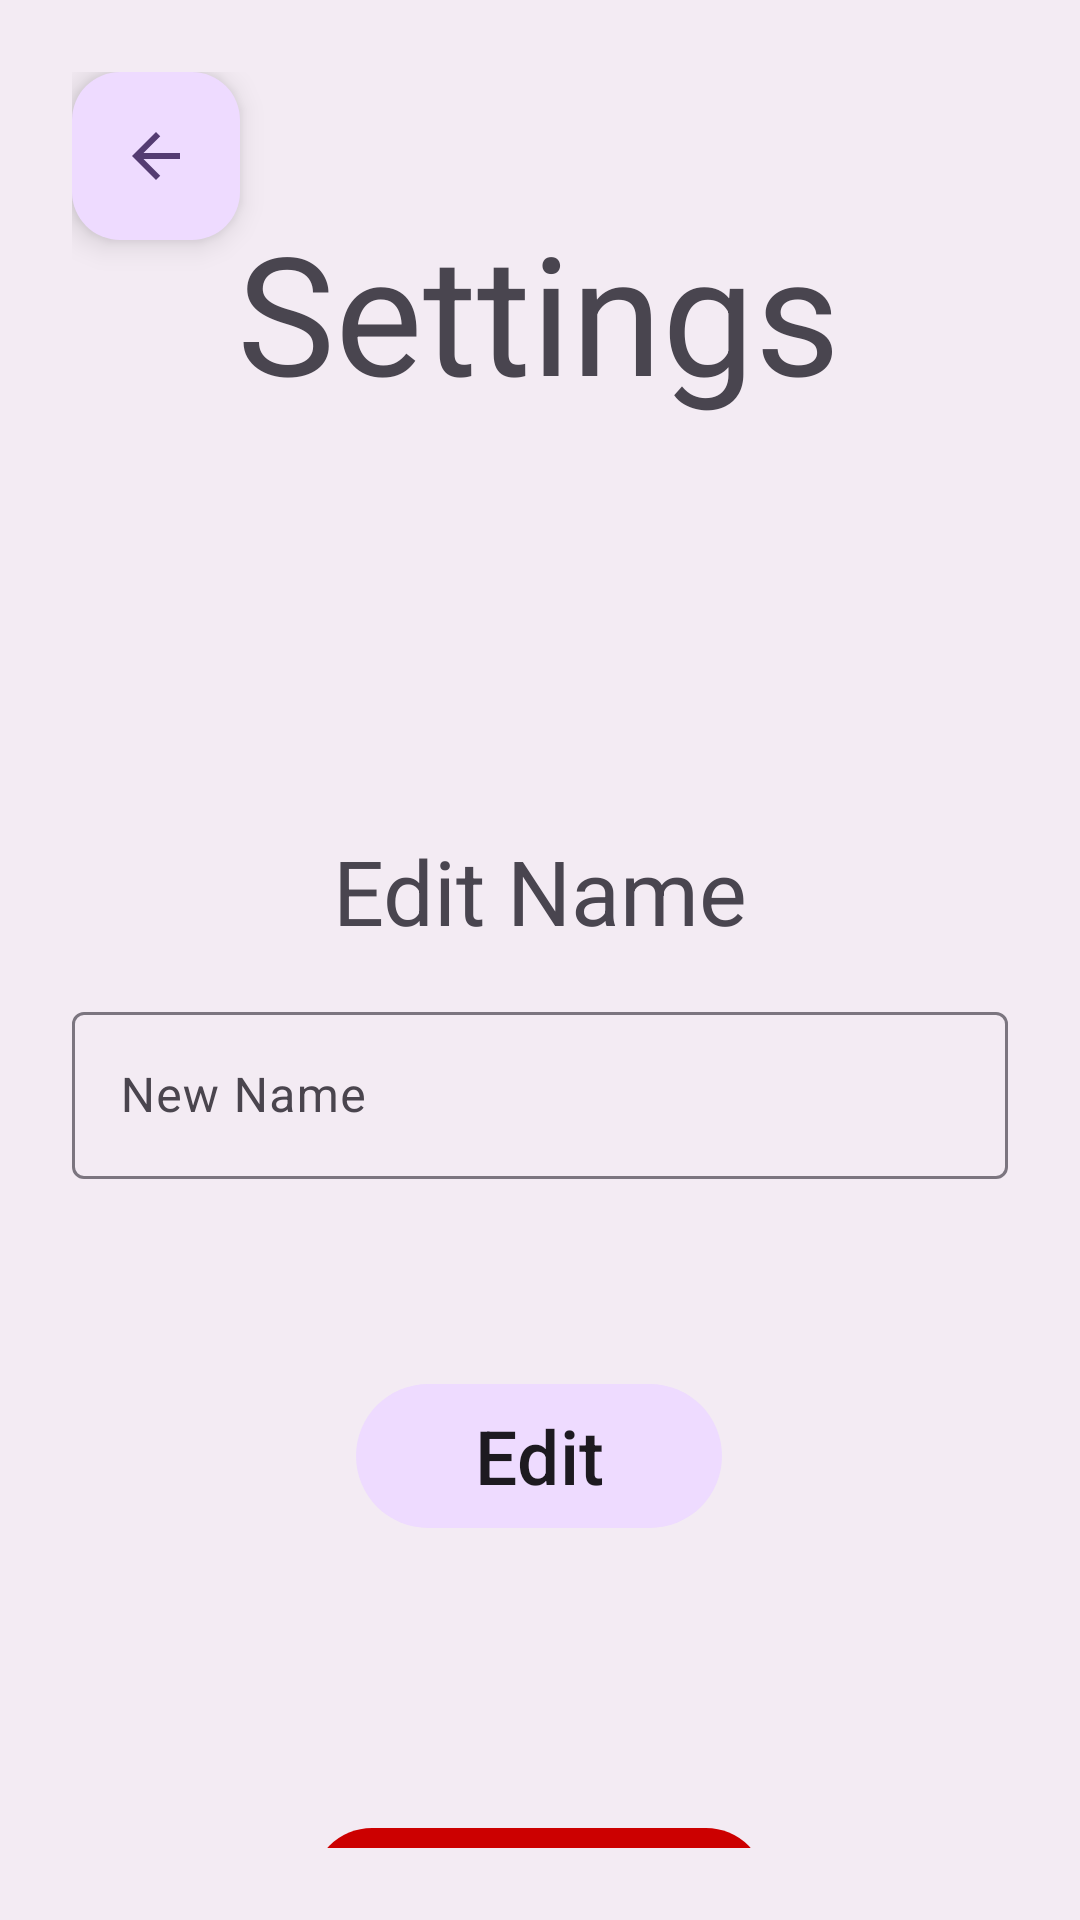

Where to tap for icons on this 1080x1920 app screen, as point (x, y):
arrow back: point (156, 156)
